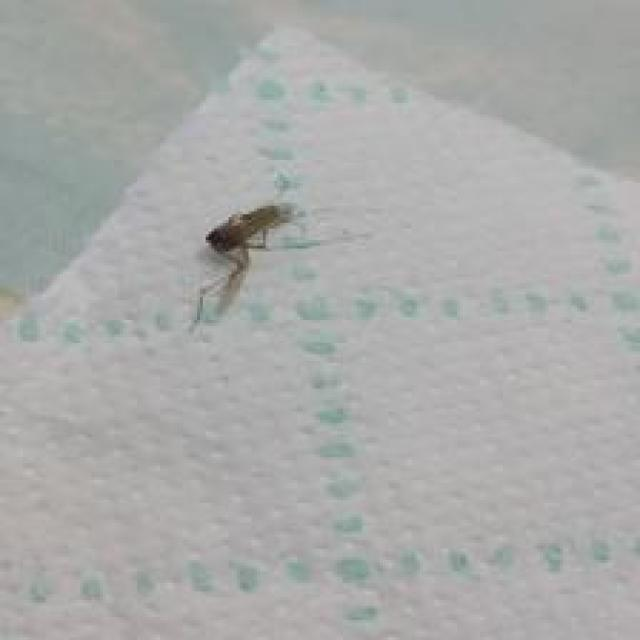Culex: (190, 199, 296, 327)
